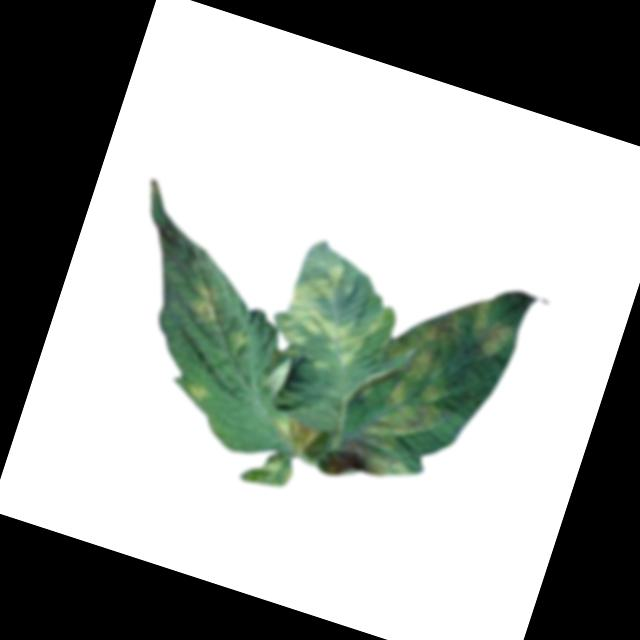Leaf_Mold: (322, 269, 517, 514), (271, 256, 383, 379), (183, 277, 235, 325), (268, 412, 321, 457), (186, 377, 215, 402)
